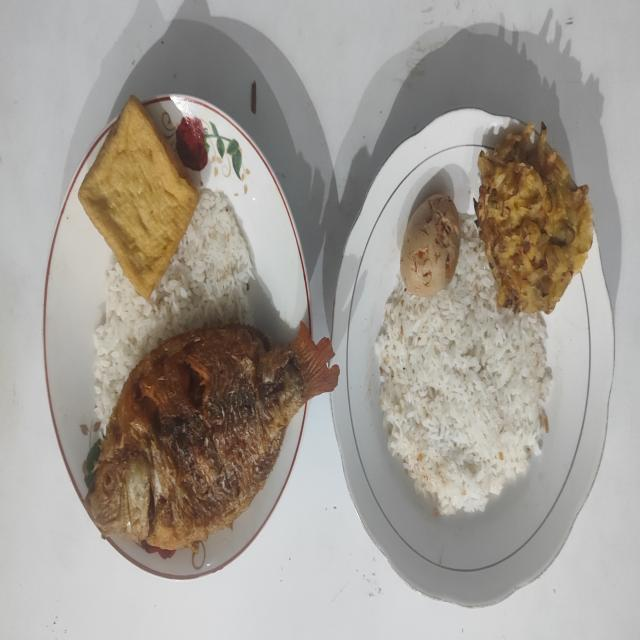ikan_mujair: (87, 323, 339, 552)
nasi_putih: (376, 216, 552, 514), (94, 190, 255, 432)
tahu_goreng: (78, 96, 200, 298)
